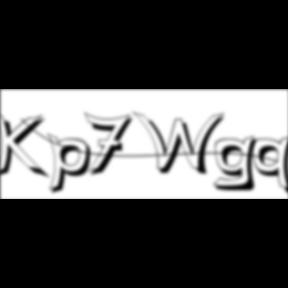7: (84, 111, 138, 179)
K: (0, 110, 52, 182)
W: (133, 110, 231, 178)
g: (213, 134, 265, 194)
p: (48, 132, 98, 198)
